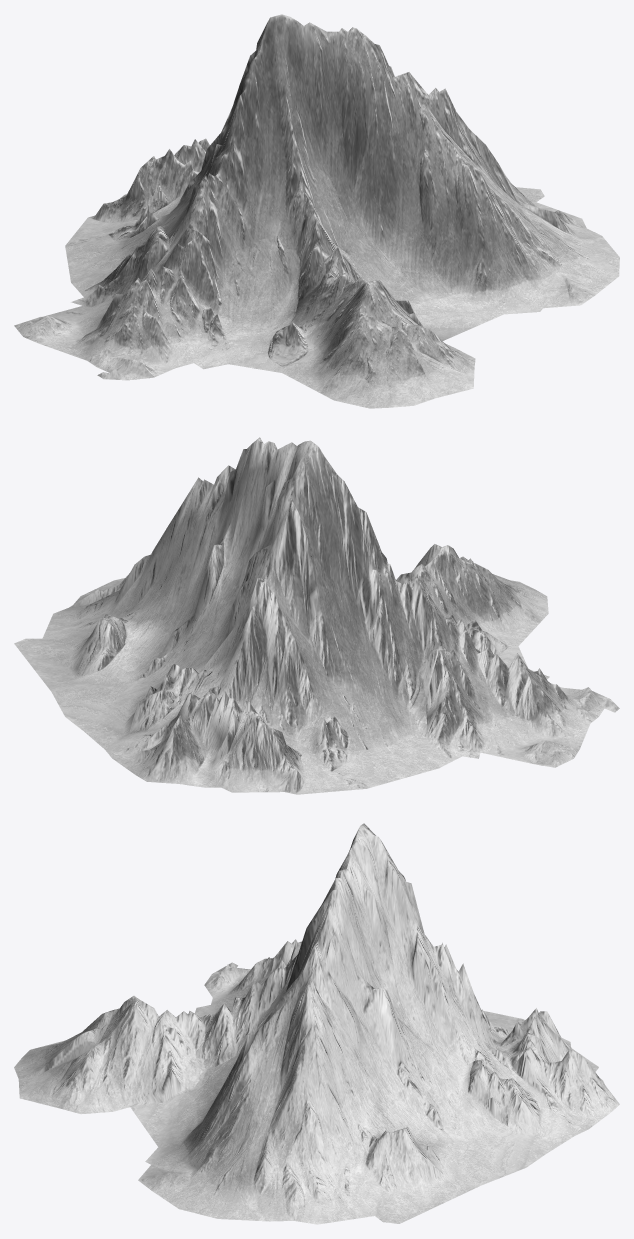
Rendered from i_zx_yuanshan01.FBX.
The picture shows the model from 3 angles, top to bottom: view 1: azimuth 30°, elevation 25°; view 2: azimuth 150°, elevation 25°; view 3: azimuth 270°, elevation 25°; orthographic projection.
Parts seen in each view (by area): view 1: i_zx_yuanshan01; view 2: i_zx_yuanshan01; view 3: i_zx_yuanshan01.
Part boxes in pixels (<box>): i_zx_yuanshan01: <box>14,14,619,408</box>; i_zx_yuanshan01: <box>14,437,619,794</box>; i_zx_yuanshan01: <box>14,823,619,1224</box>.
Bounding box in the file's own units: 98.49 × 44.82 × 94.36.
Materials: 1 (1 with a texture image).
